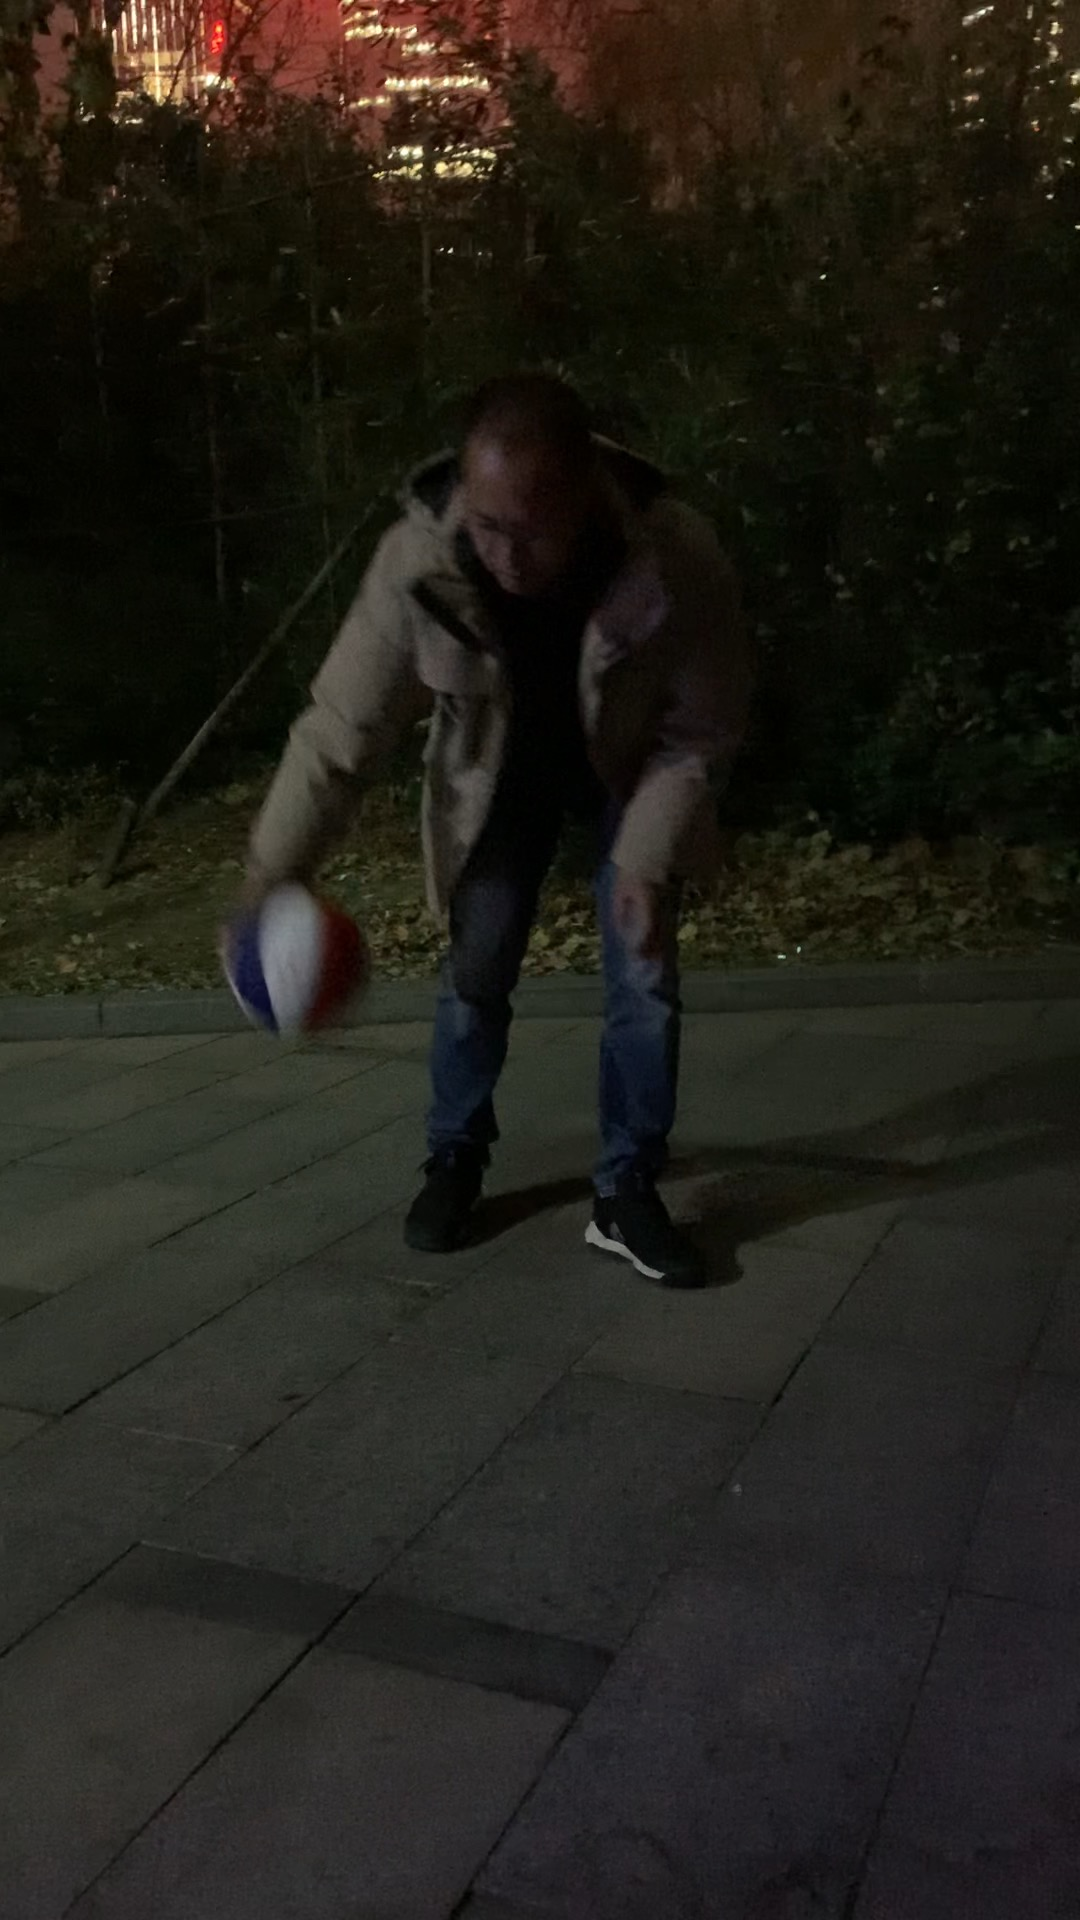ball: (228, 882, 371, 1040)
